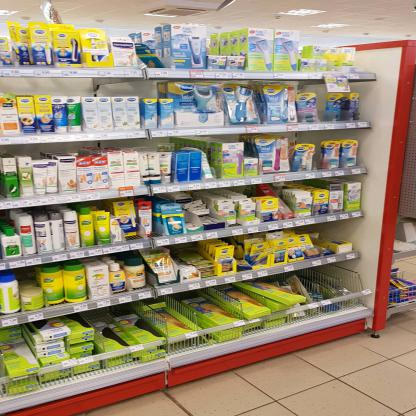Void: (326, 224, 350, 238), (15, 269, 36, 285), (171, 246, 199, 255)
